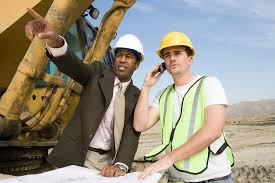helmet: (153, 32, 198, 55)
vest: (159, 85, 234, 167)
